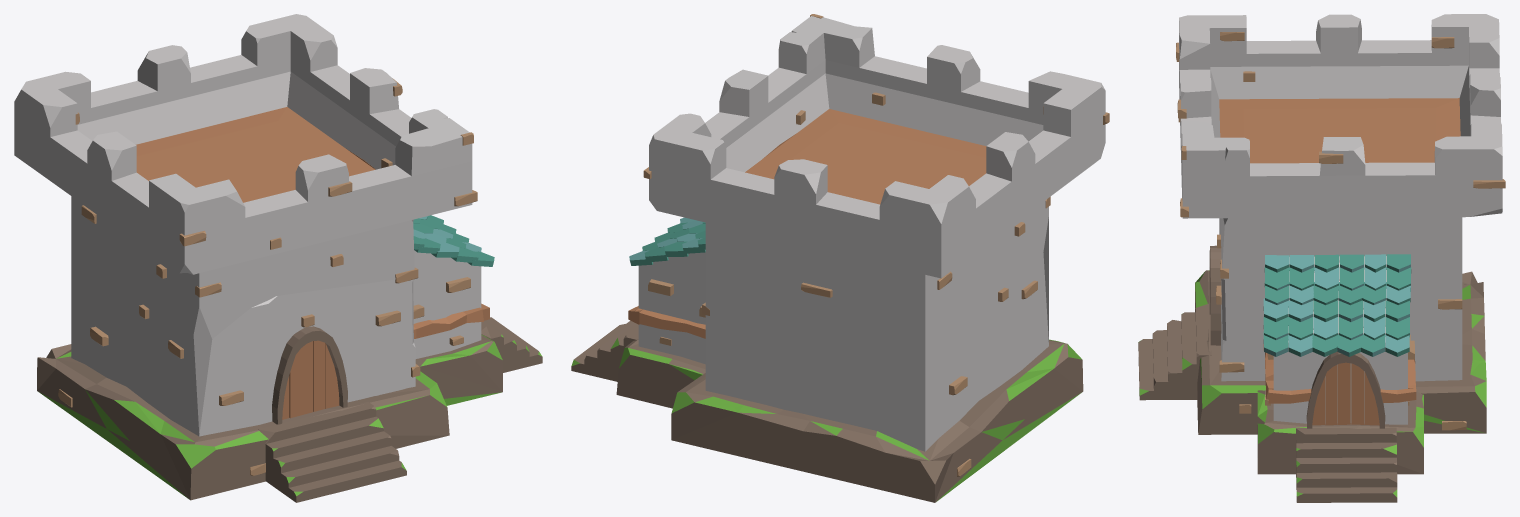
The model's file is TowerMain2.fbx.
The picture shows the model from 3 angles, left to right: view 1: azimuth 30°, elevation 25°; view 2: azimuth 150°, elevation 25°; view 3: azimuth 270°, elevation 25°; orthographic projection. The views are drawn at different scales.
Parts seen in each view (by area): view 1: TowerMain; view 2: TowerMain; view 3: TowerMain.
Part boxes in pixels (x1,y1,x2,y2): TowerMain: (14, 14, 542, 502); TowerMain: (571, 14, 1109, 502); TowerMain: (1138, 14, 1505, 502).
Bounding box in the file's own units: 1944 × 1345 × 1527.
